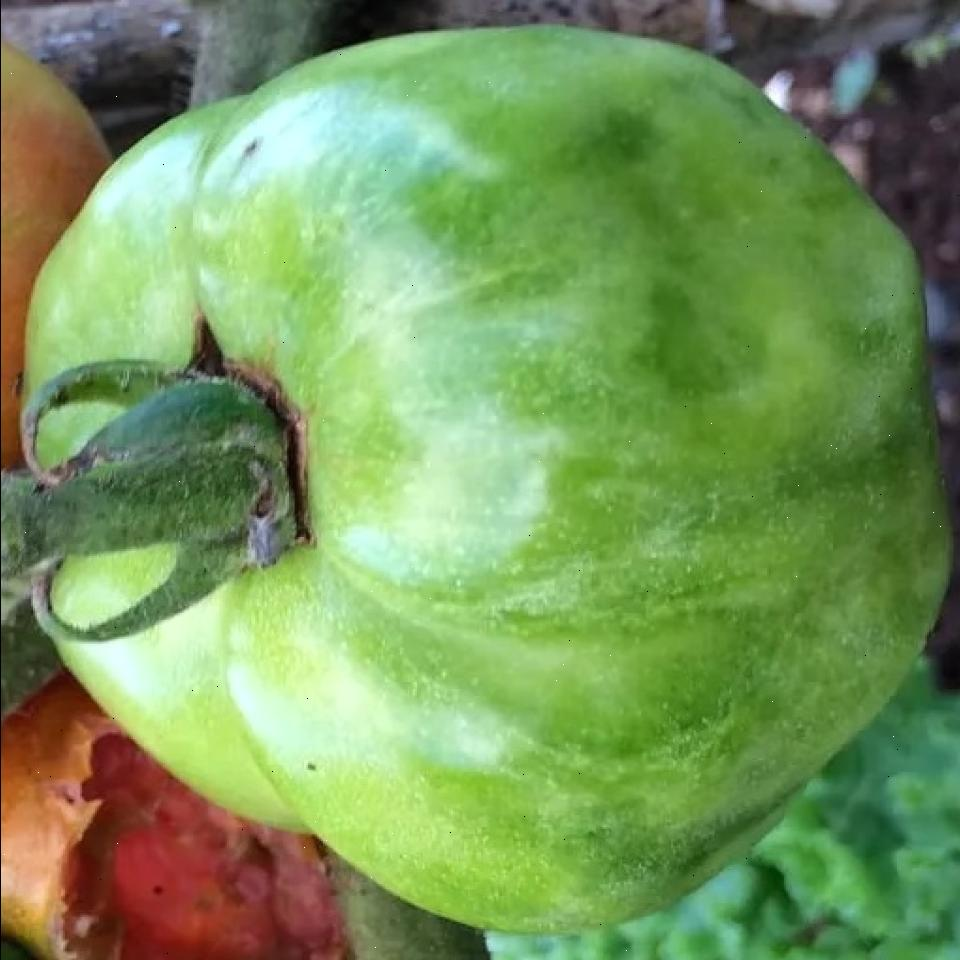Spotted wilt Virus: (9, 24, 957, 932)
